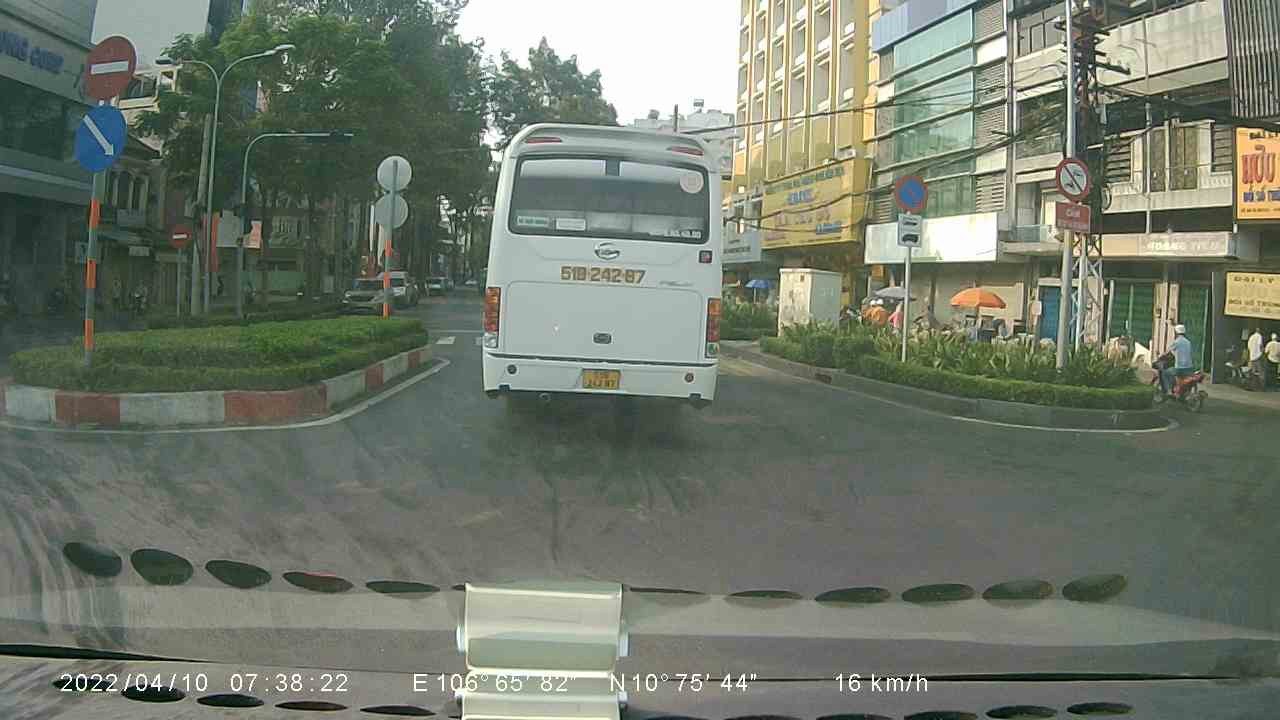Bien khac: (1053, 155, 1094, 199)
Cam di nguoc chieu: (80, 33, 141, 99)
Cam do xe: (890, 169, 931, 212)
Huong di phai re phai: (68, 105, 132, 173)
